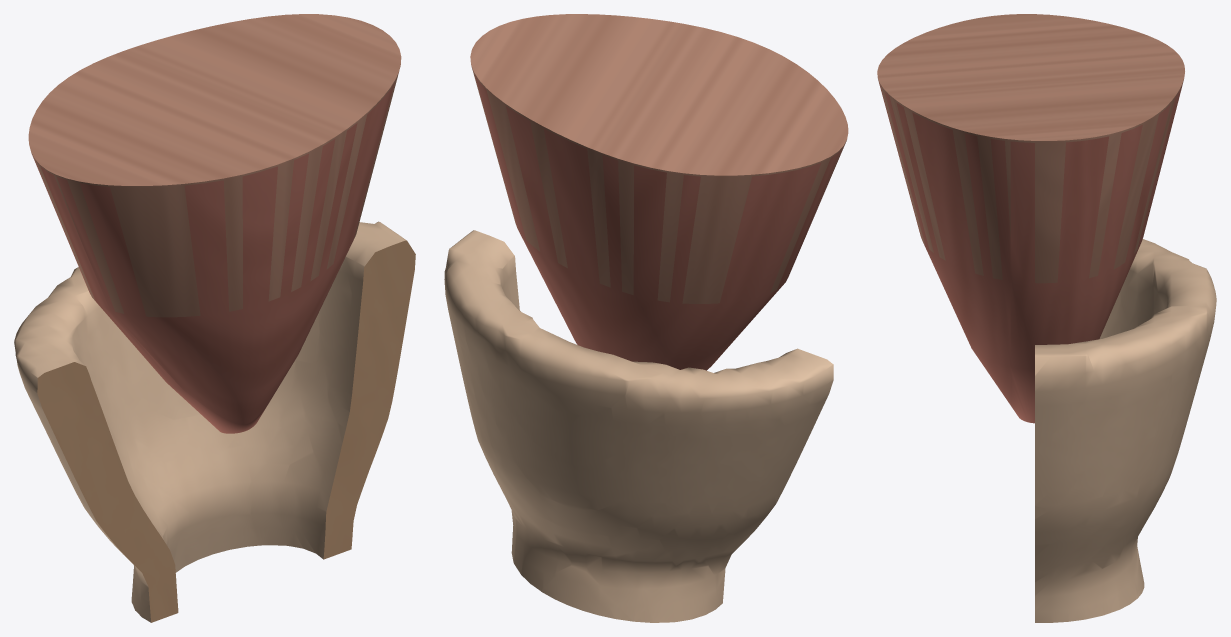
File: papilla.glb
3 views of the same model, side by side, from view 1: azimuth 30°, elevation 25°; view 2: azimuth 150°, elevation 25°; view 3: azimuth 270°, elevation 25° (orthographic). The views are drawn at different scales.
Visible parts, largest first — view 1: Papilla_02, Minor_calyx_02_window; view 2: Papilla_02, Minor_calyx_02_window; view 3: Papilla_02, Minor_calyx_02_window.
Boxes of the visible parts, x1,y1,x2,y2 form: Papilla_02: [28, 14, 401, 433]; Minor_calyx_02_window: [14, 221, 415, 622]; Papilla_02: [470, 14, 848, 370]; Minor_calyx_02_window: [444, 230, 833, 622]; Papilla_02: [877, 14, 1184, 423]; Minor_calyx_02_window: [1035, 239, 1216, 622].
Bounding box in the file's own units: 0.00503 × 0.00672 × 0.00394.
4 materials, 4 textured.
